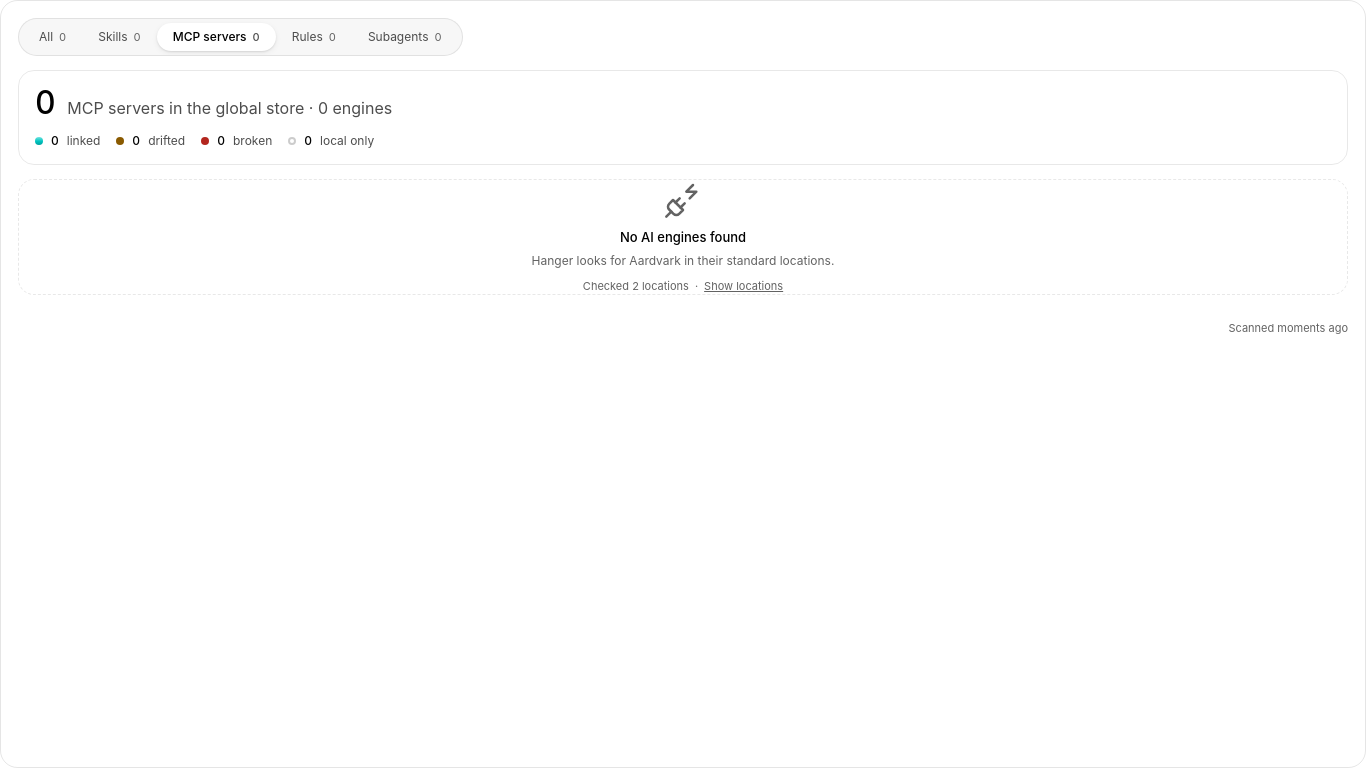
ProfilePane — Tools' own empty states (Appendix A.1, A.2) › A.2 — no engines detected at all › [Show locations] discloses the real paths checked, one per line
Expected: the text "~/.claude" is not shown
Click the button "Show locations" at (744, 286), box [704, 278, 783, 294]
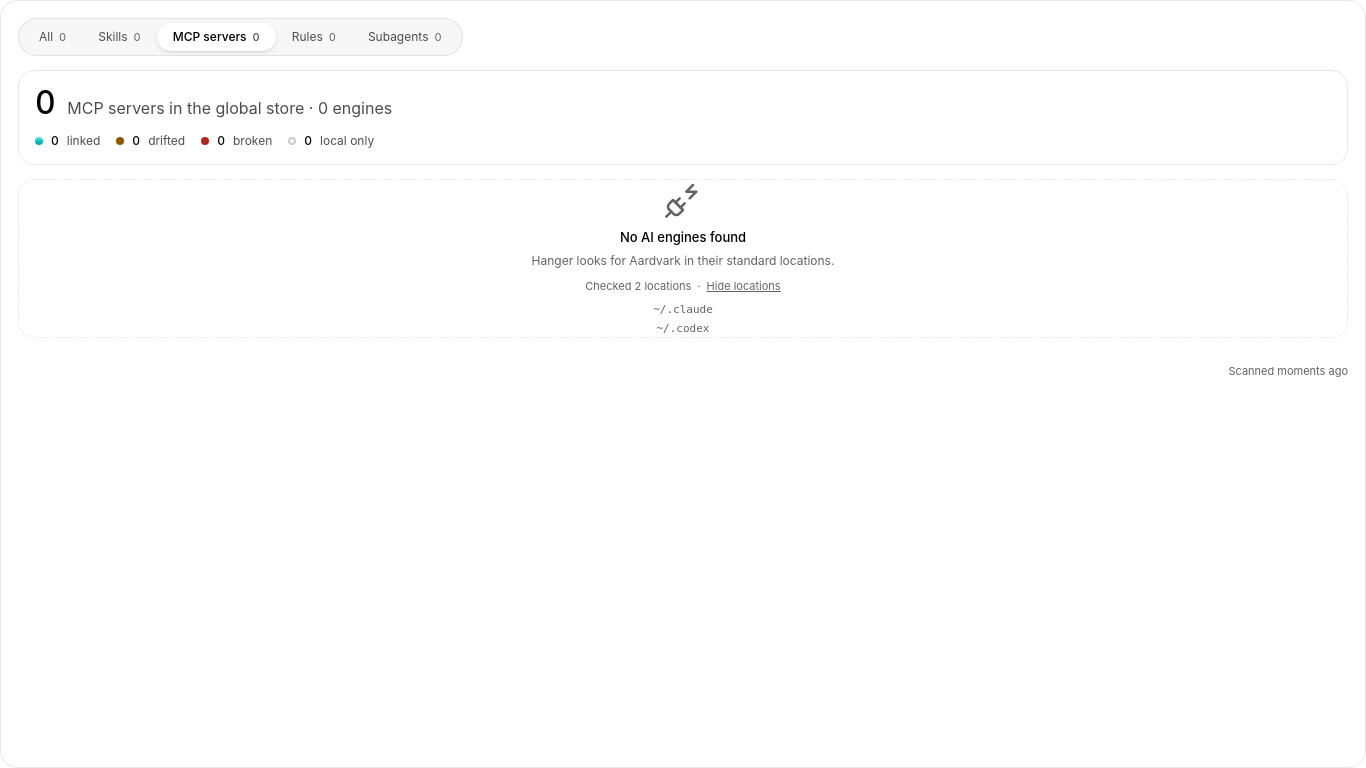
Expected: the text "~/.claude" is shown, [653, 302, 713, 318]
Expected: the text "~/.codex" is shown, [653, 320, 713, 337]
